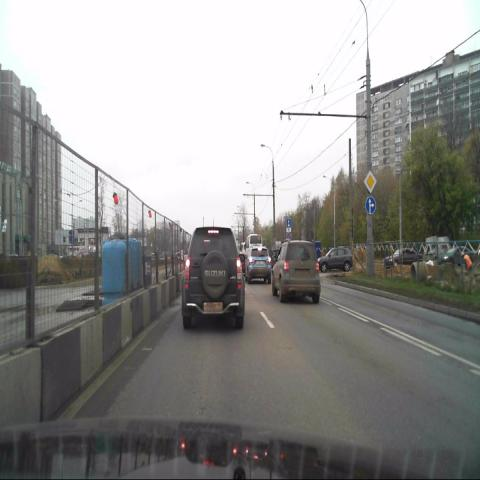2_1: (364, 169, 376, 195)
4_1_4: (365, 196, 376, 215)
